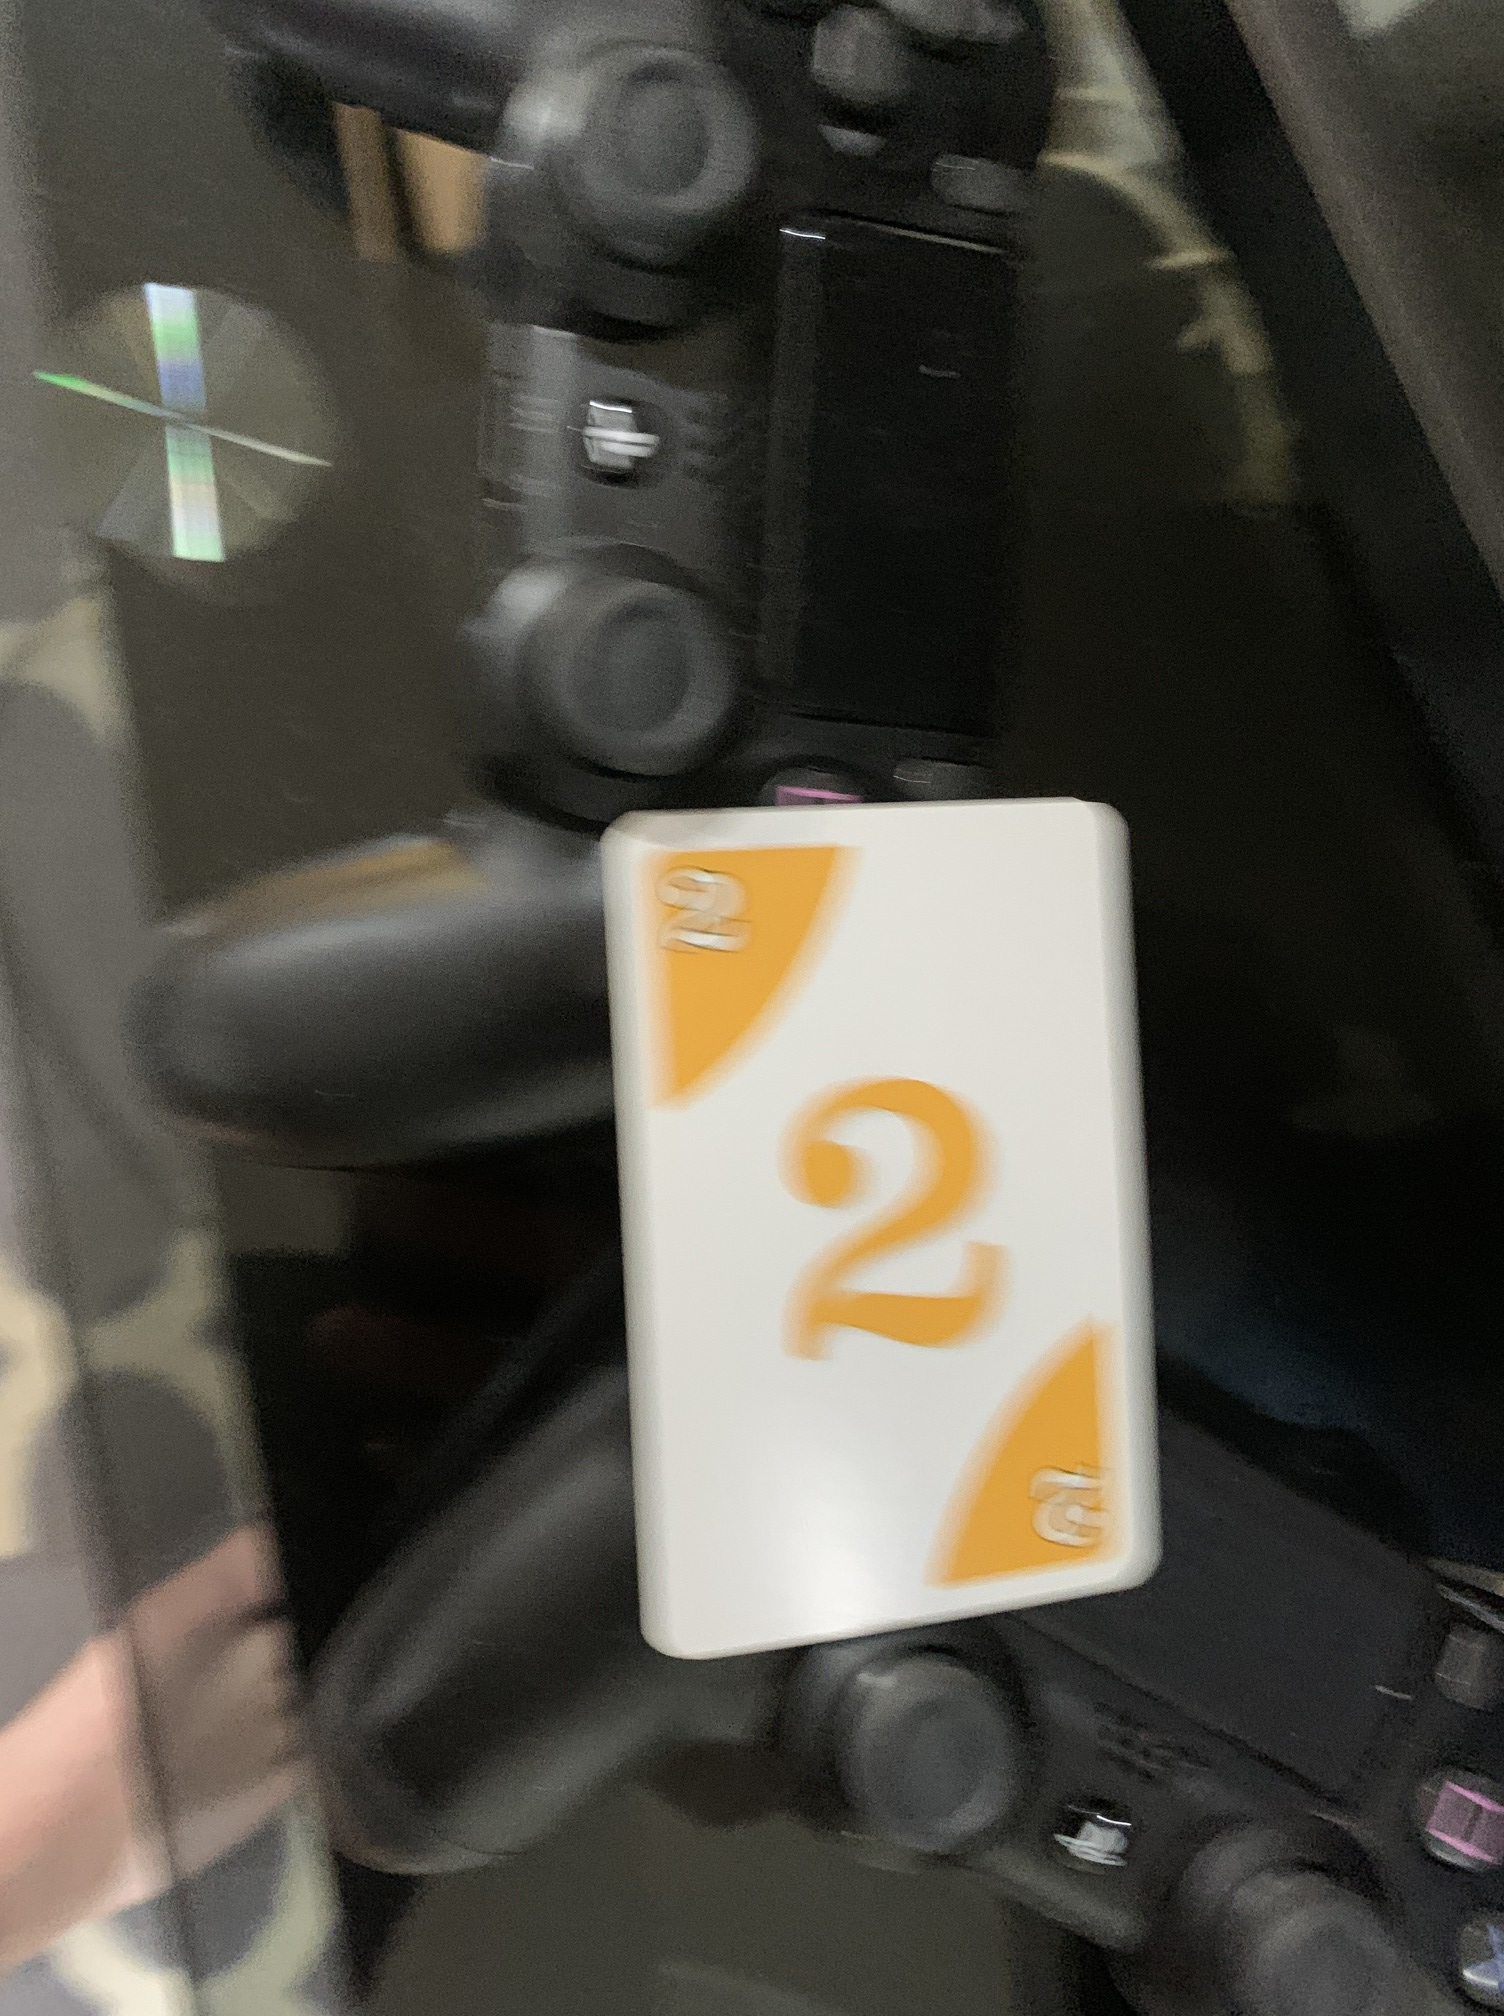two: (600, 784, 1155, 1662)
